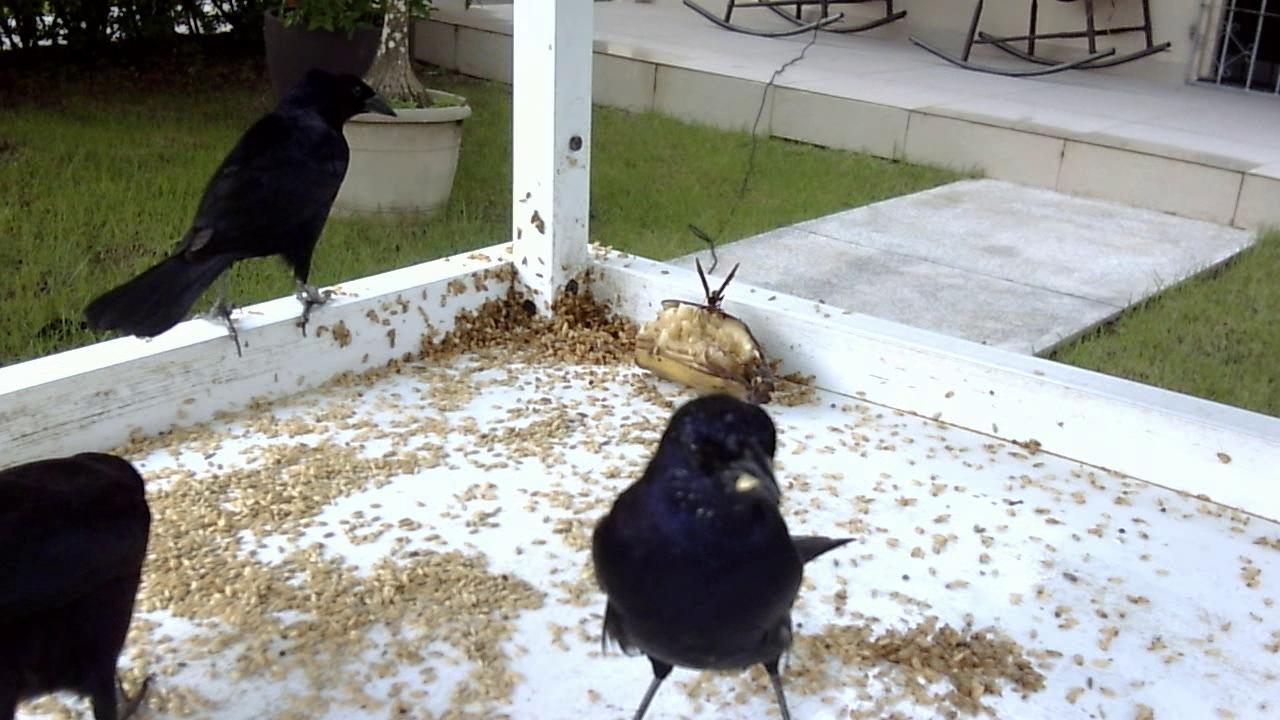chupim: (81, 63, 392, 371), (583, 387, 865, 720), (1, 428, 178, 720)
